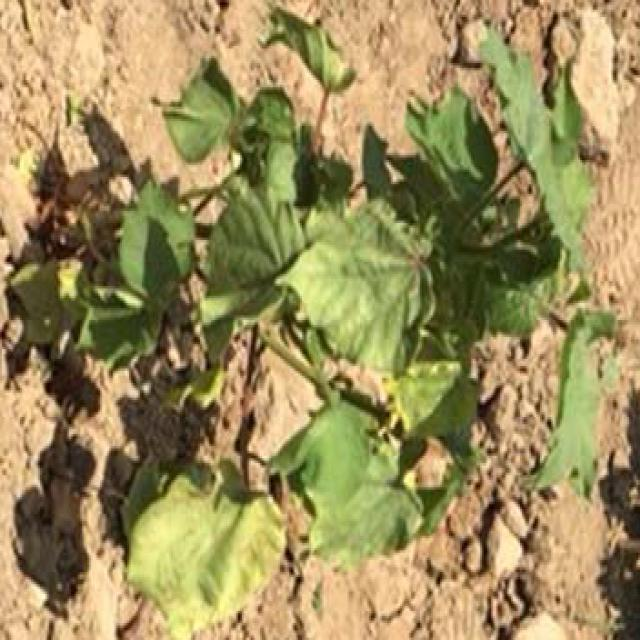Fusarium Wilt: (102, 76, 588, 480)
